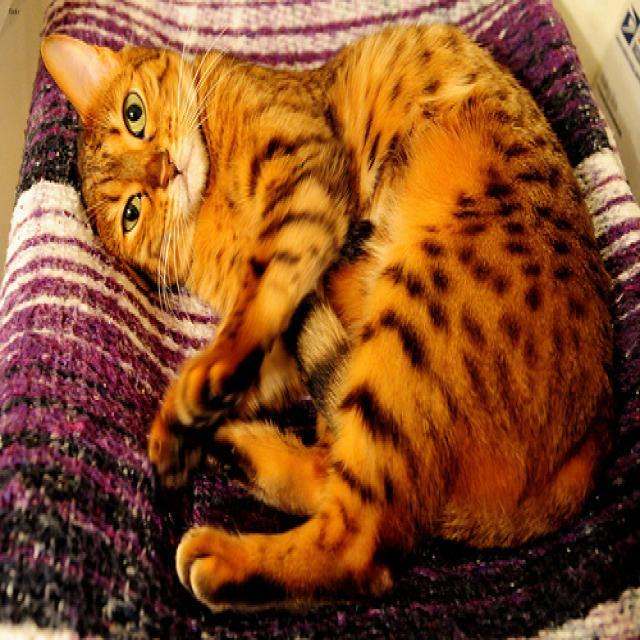Bengal: (37, 26, 212, 287)
